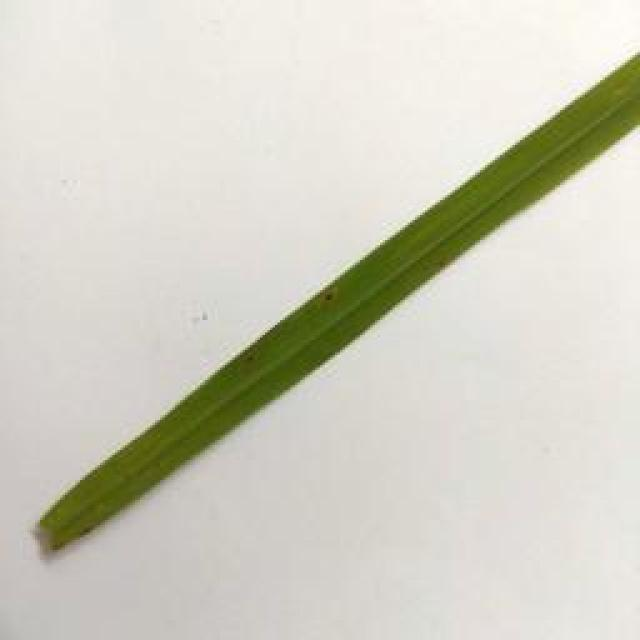Brown_Spot: (316, 287, 342, 308), (244, 354, 264, 374), (435, 260, 451, 270)
